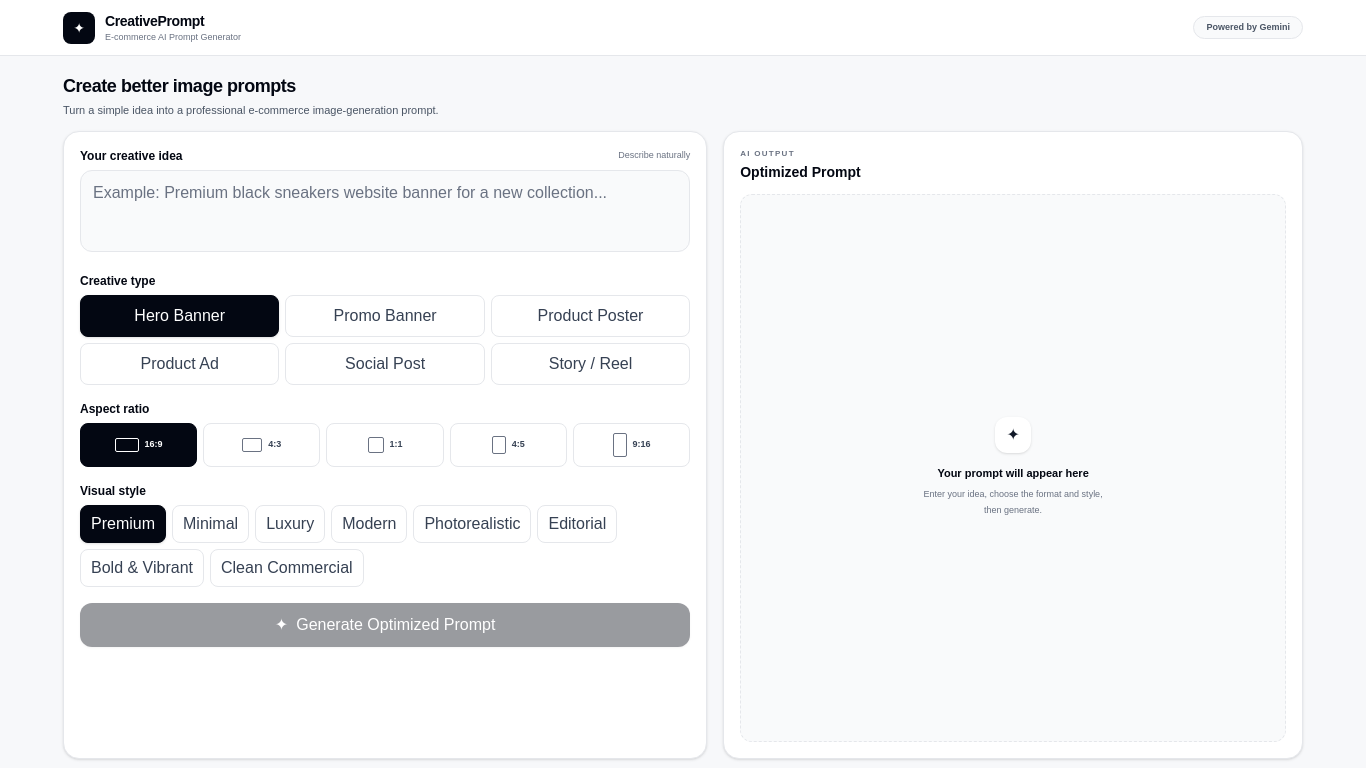
Scenario: AI Prompt Generator Homepage › enables the Generate button when a prompt is entered
This screenshot has width=1366, height=768.
Check: the button "✦ Generate Optimized Prompt" is disabled, box [80,602,690,646]
In the text box with placeholder "Premium black sneakers website banner": x=385, y=210 [80,170,690,252], type "Premium sneakers advertisement"
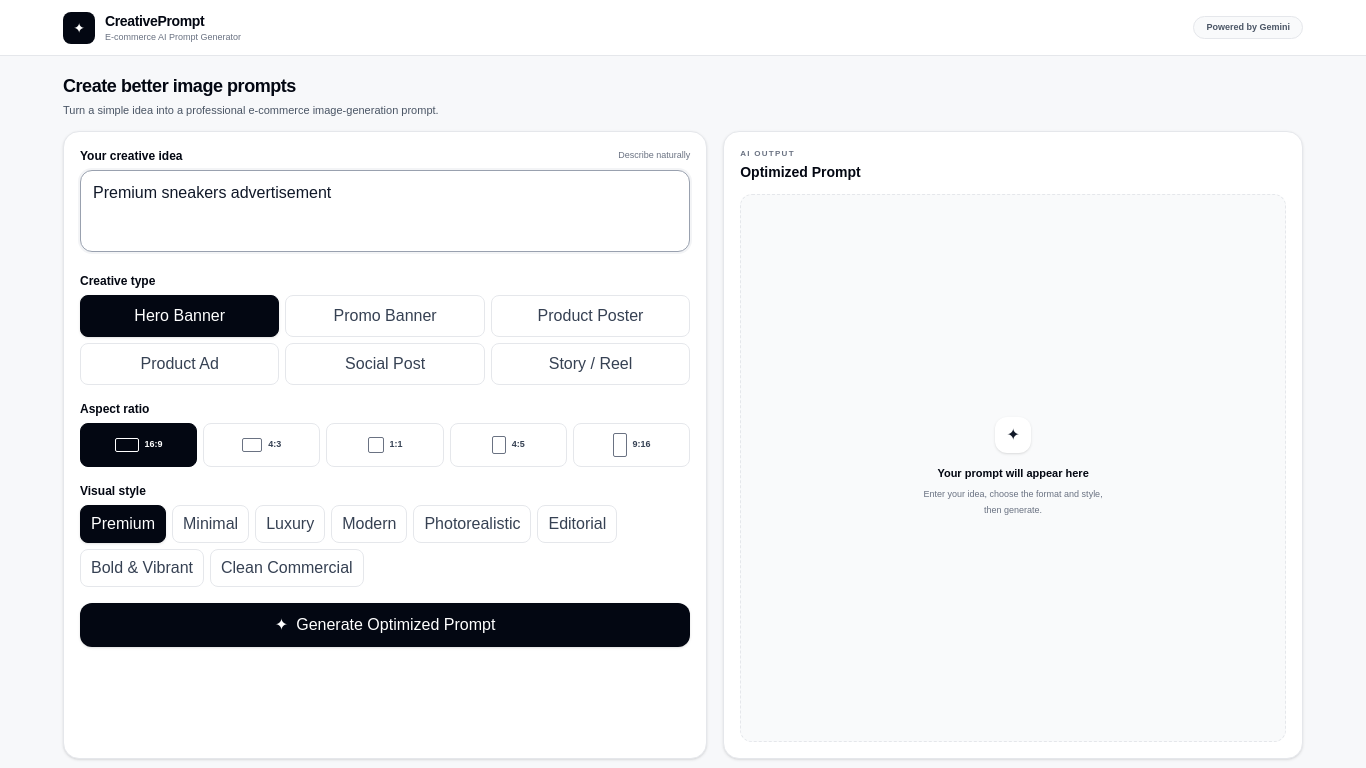
Check: the button "✦ Generate Optimized Prompt" is enabled, box [80,602,690,646]
